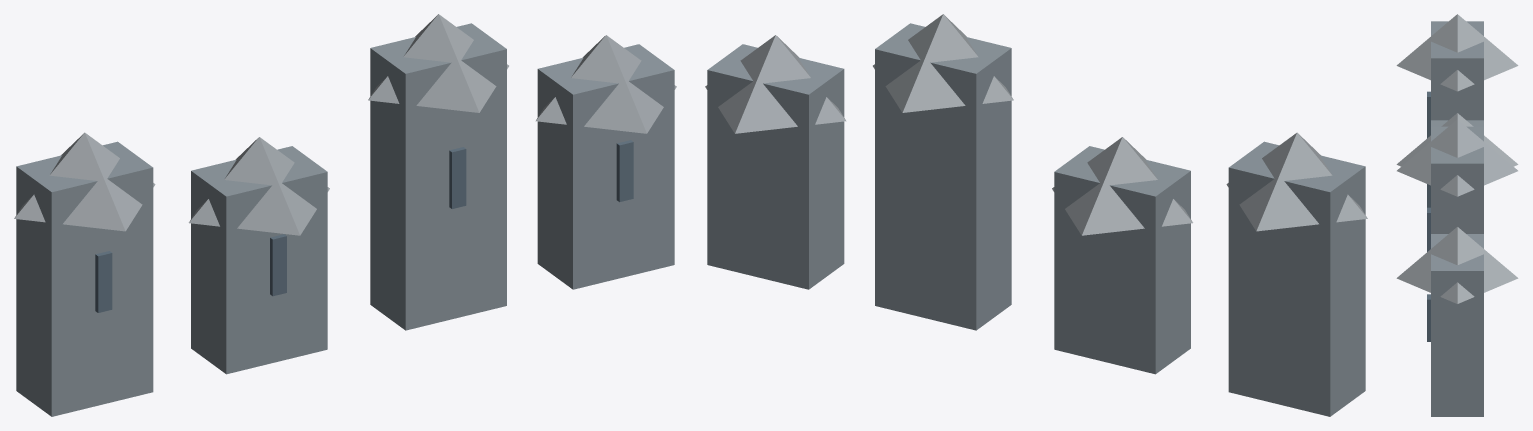
The model's file is map-exclusive-v3__grave_13.glb.
3 renders of one model, left to right at view 1: azimuth 30°, elevation 25°; view 2: azimuth 150°, elevation 25°; view 3: azimuth 270°, elevation 25°, orthographic. The views are drawn at different scales.
Parts seen in each view (by area): view 1: grave_13; view 2: grave_13; view 3: grave_13.
Part boxes in pixels (x1=…): grave_13: x1=14, y1=14, x2=676, y2=416; grave_13: x1=705, y1=14, x2=1367, y2=416; grave_13: x1=1396, y1=14, x2=1518, y2=416.
Size of the model in its own units: 2.81 by 1.18 by 0.6.
